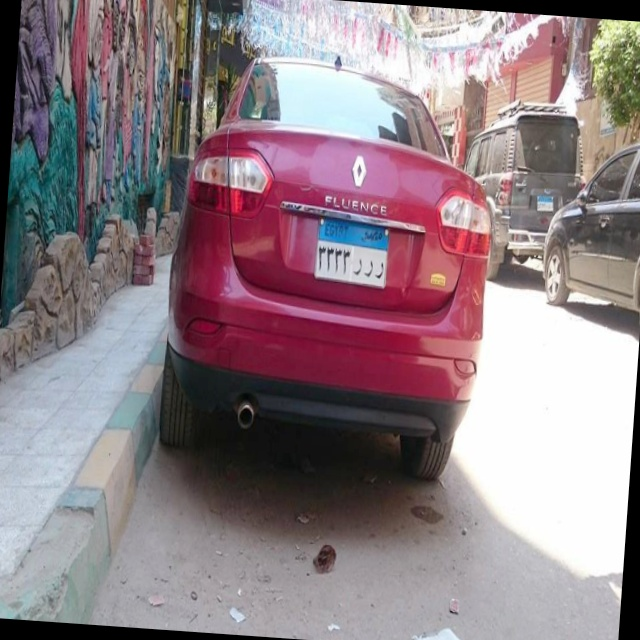License Plate: (312, 214, 393, 290)
